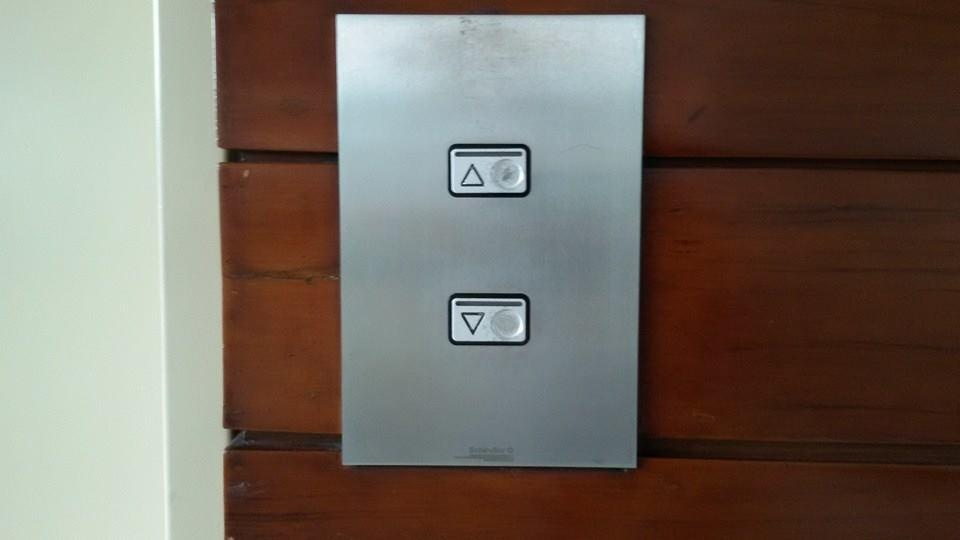down: (444, 289, 533, 349)
up: (447, 138, 536, 204)
